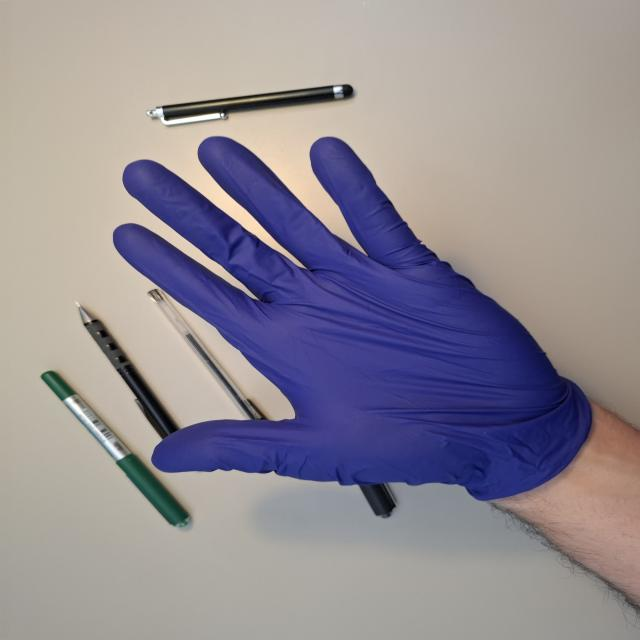glove_on: (108, 134, 592, 500)
